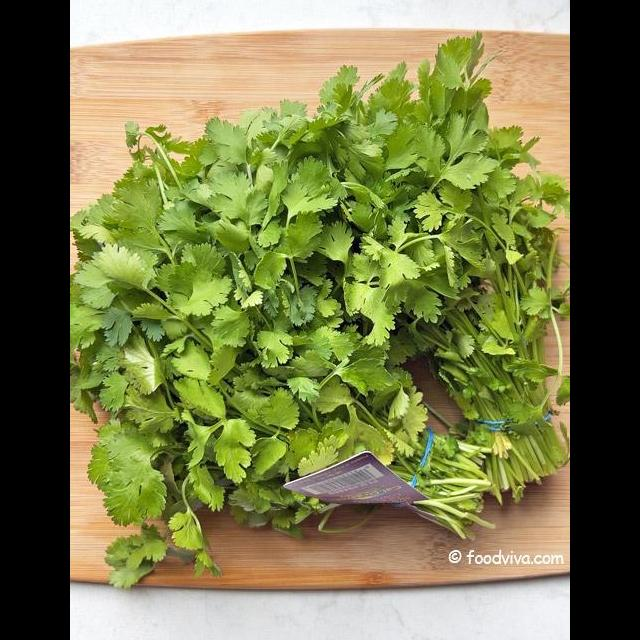cilantro: (92, 85, 550, 437)
